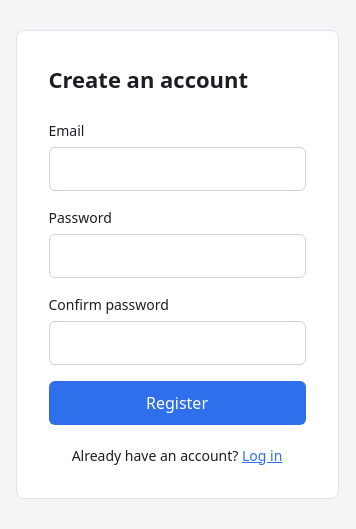
Test: register page › shows a mismatch error on the confirm field
In the field labelled "Email": (177, 168) [48,146,306,190], type "jane@example.com"
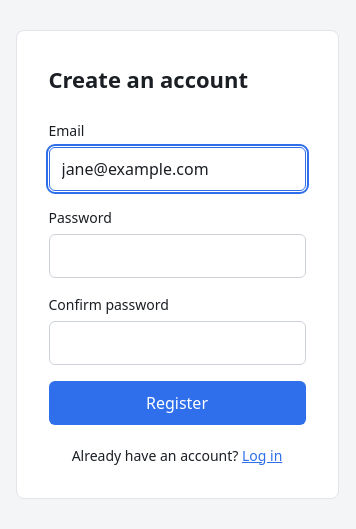
In the password field labelled "Password": (177, 256) [48,234,306,278], type "secret123"
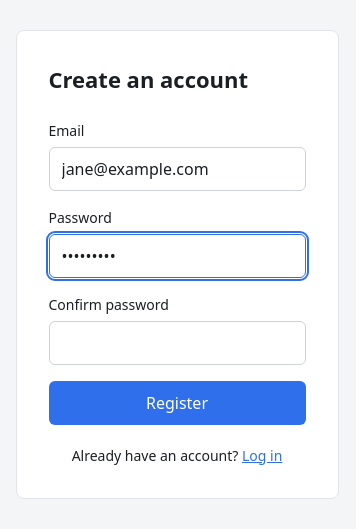
In the password field labelled "Confirm password": (177, 342) [48,320,306,364], type "secret124"
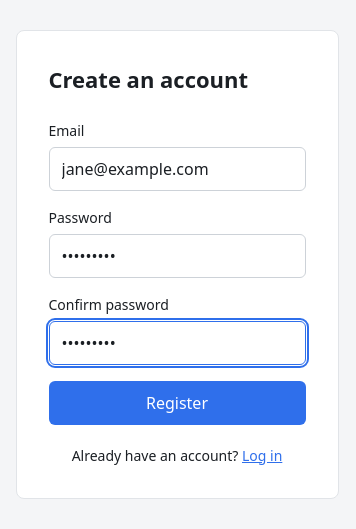
Click the button "Register": (177, 402) [48,380,306,424]
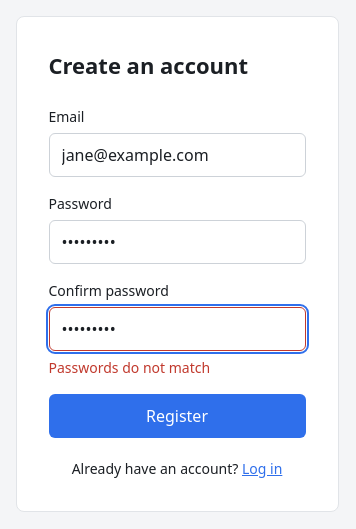
expect the text "Passwords do not match" is shown: met, box [48,358,210,377]
